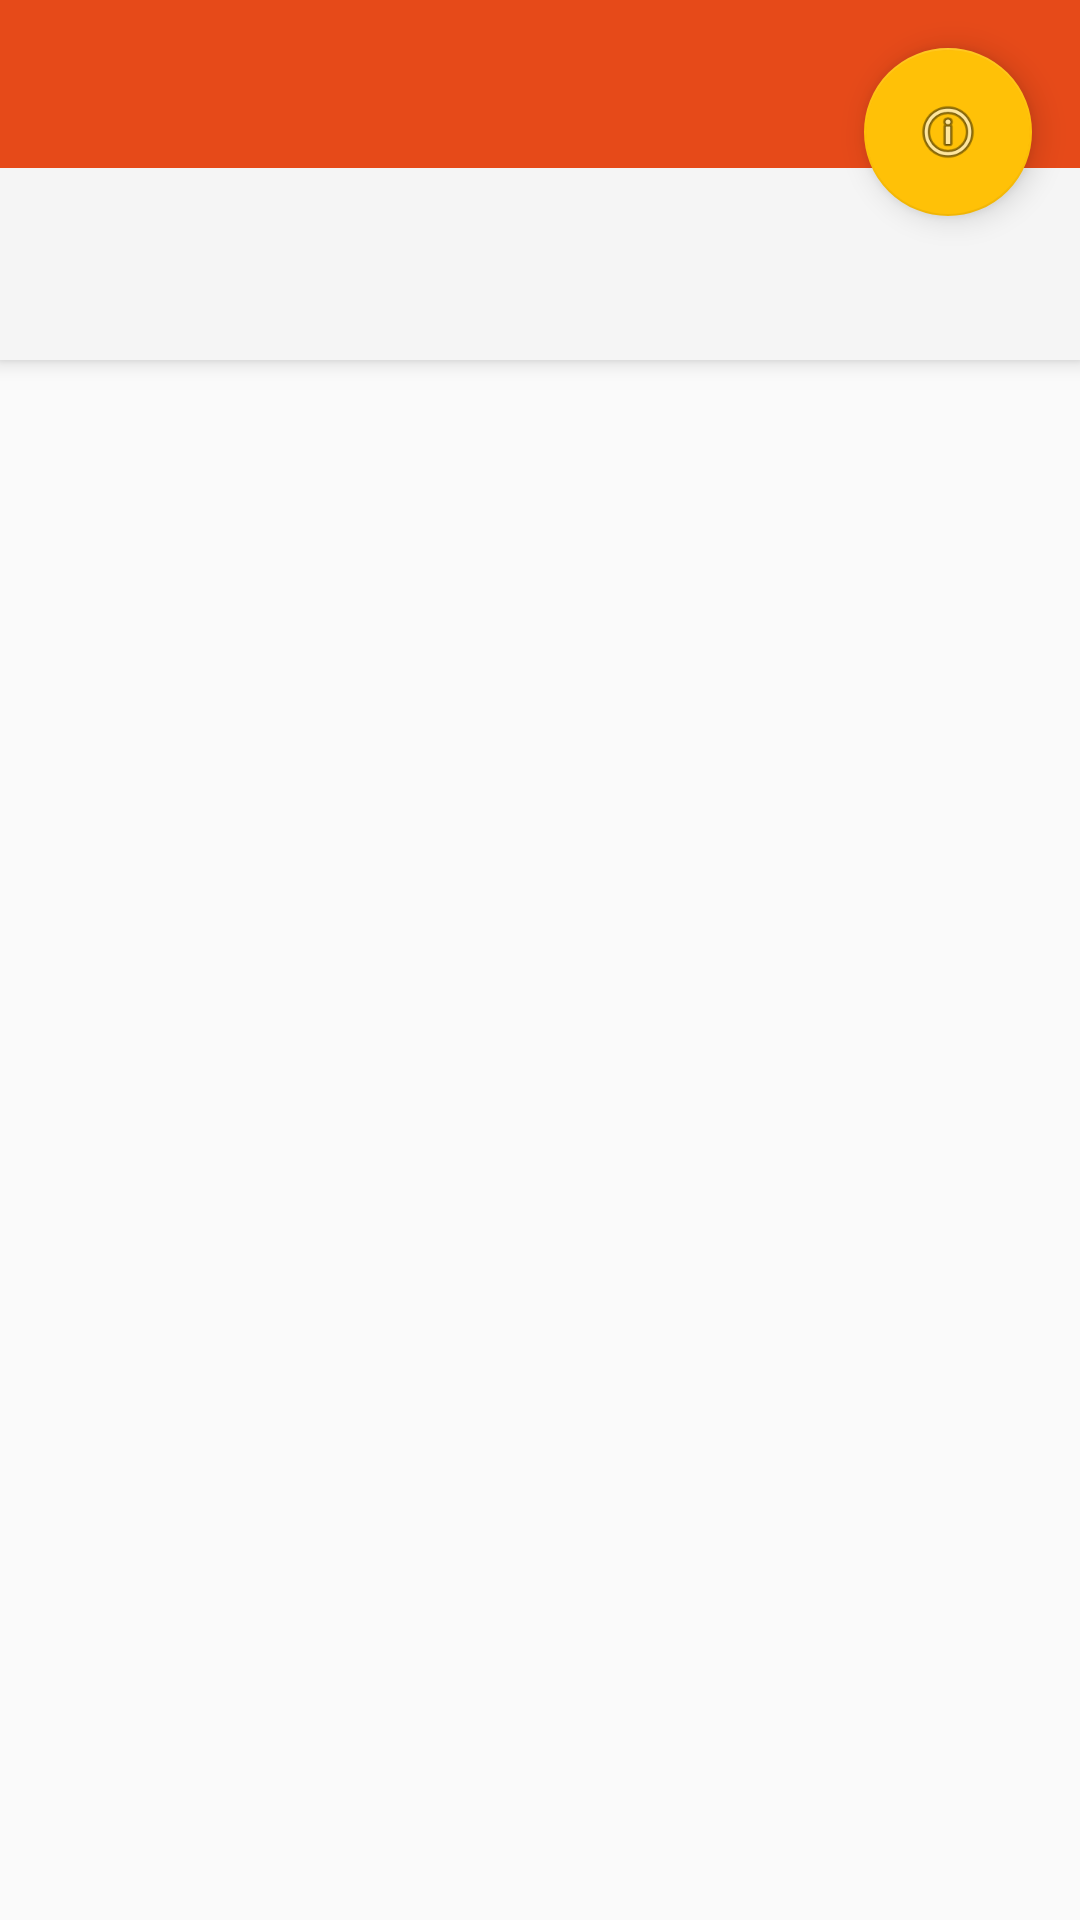

Where to tap for icons on this 1080*1920 app screen, as [x,y]:
info details: [948,132]
